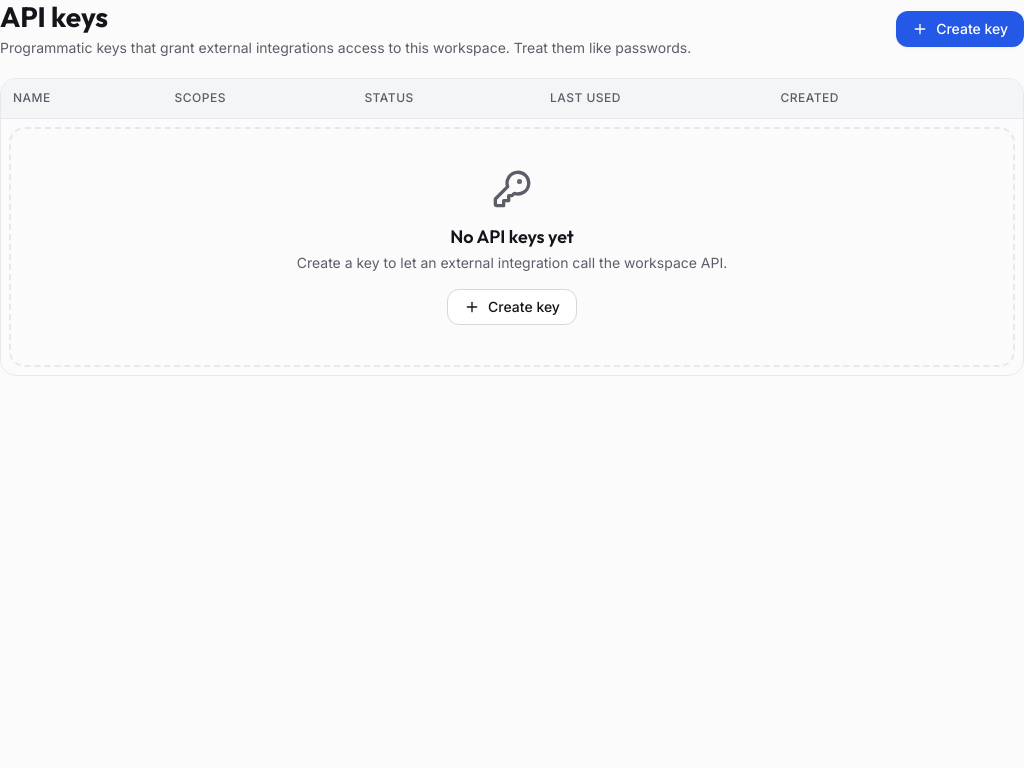
Test: ApiKeysPage › submits a valid form and shows the show-once raw key
Click the 1st button "Create key". click: (960, 29)
box: [896,11,1023,47]
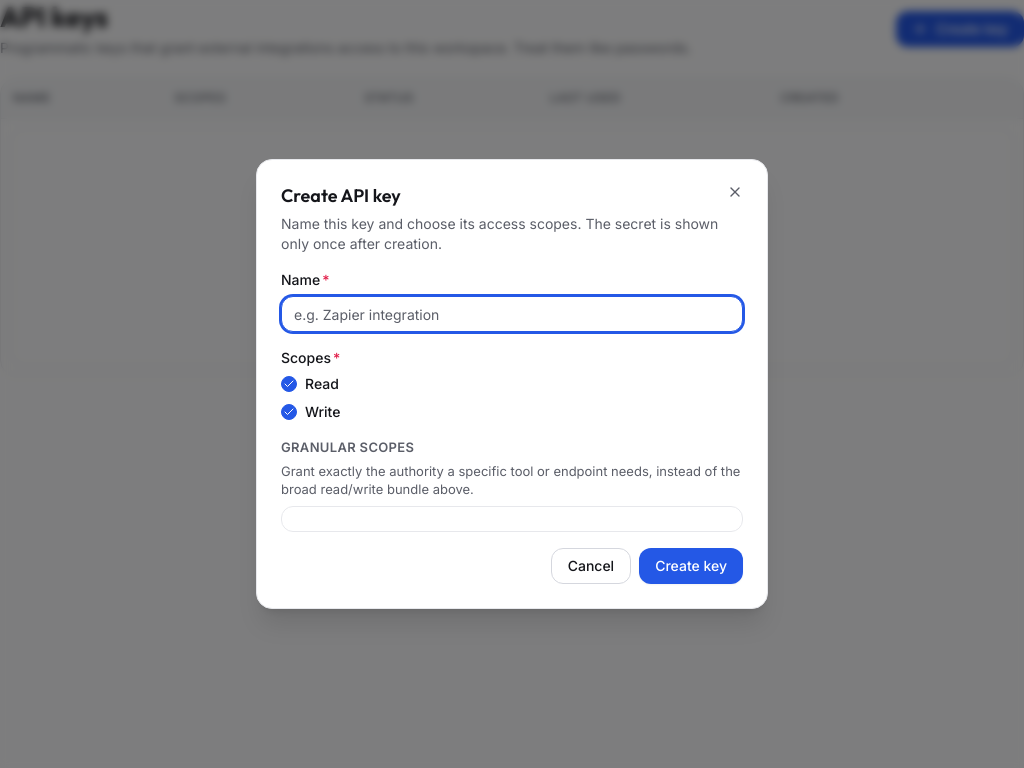
Check: the heading "Create API key" is shown, box [281,184,401,207]
Type "CI key" into the field labelled "Name*". click: (512, 314)
box: [281,296,743,332]
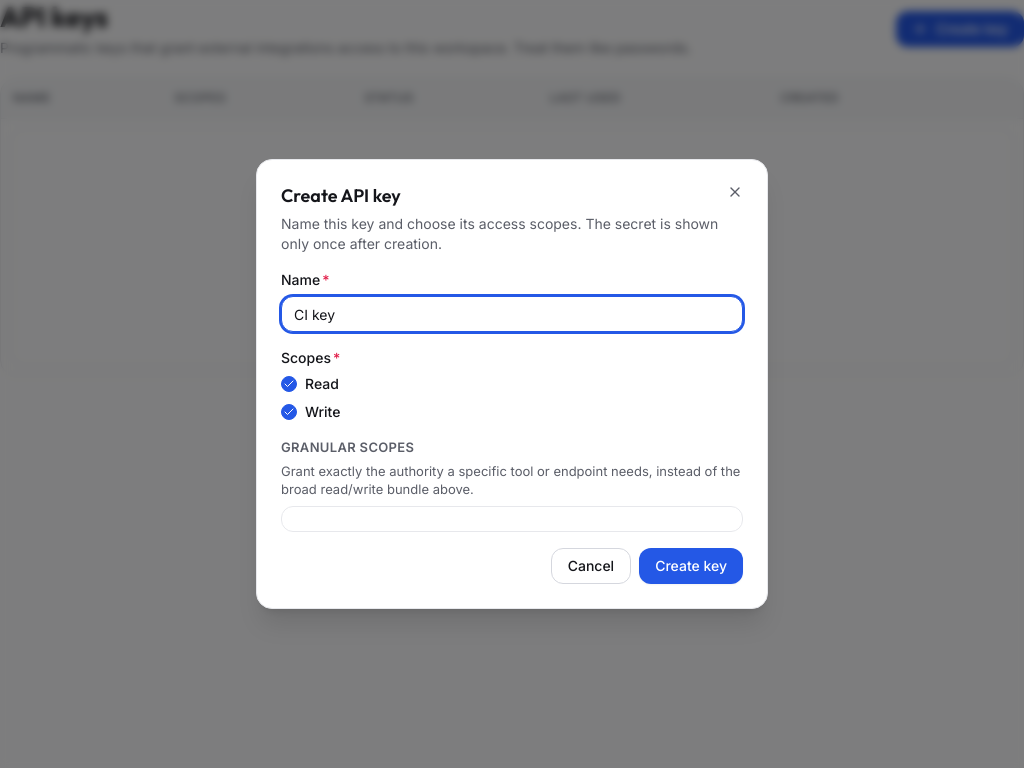
Click the button "Create key". click: (691, 566)
box: [639,548,743,584]
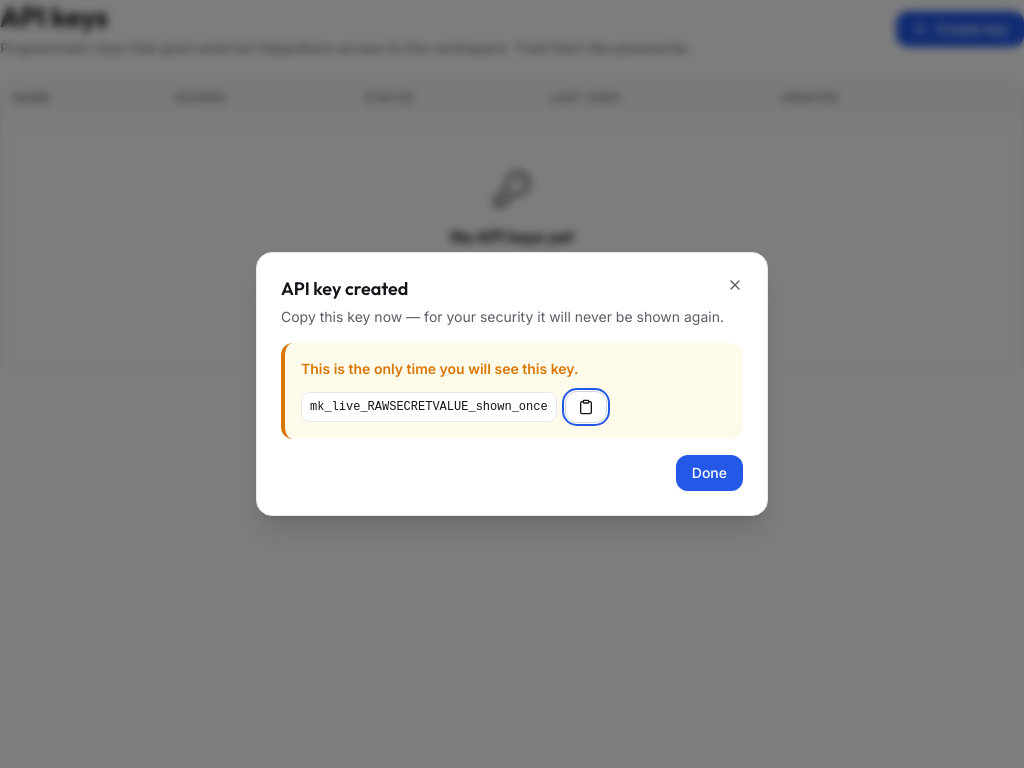
Check: the text "mk_live_RAWSECRETVALUE_shown_once" is shown, box [301,392,557,422]
